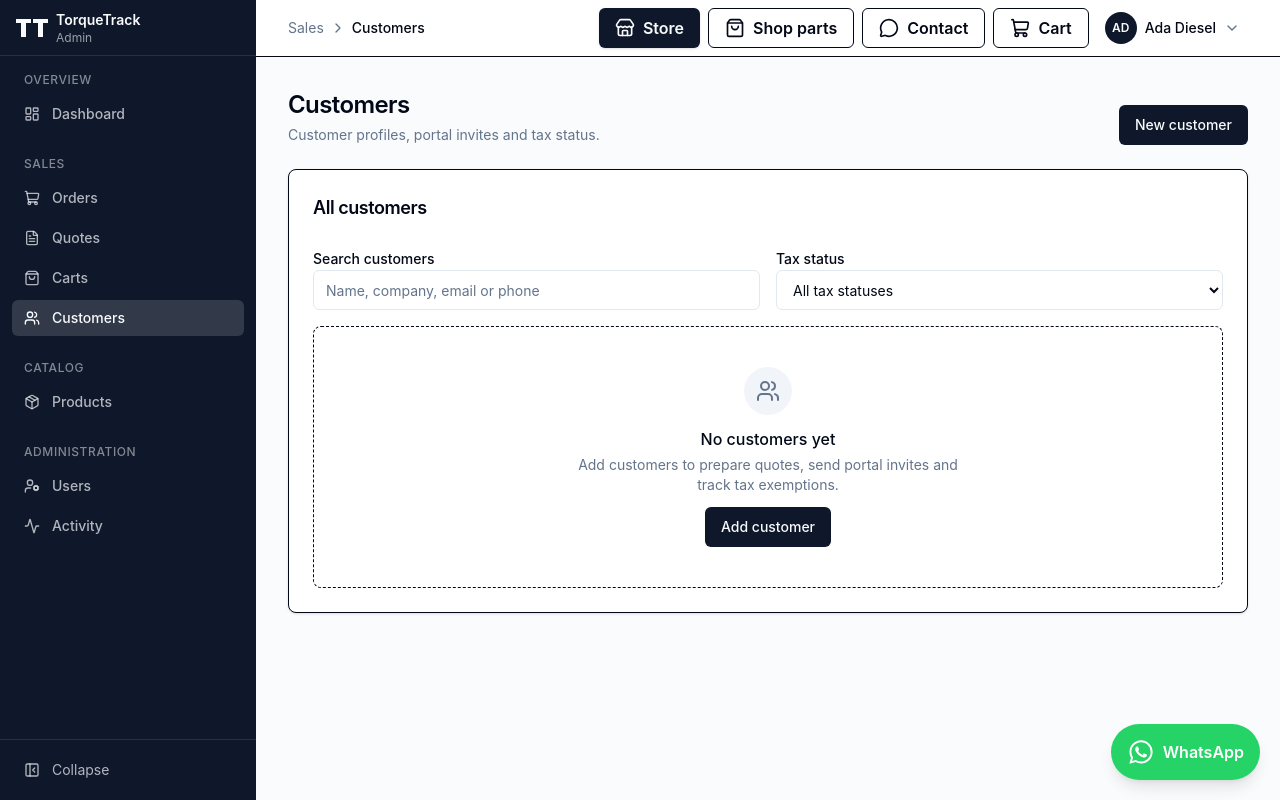
CustomersPage › creates a customer
Click the button "New customer" at (1183, 125), box left=1119, top=105, right=1248, bottom=145
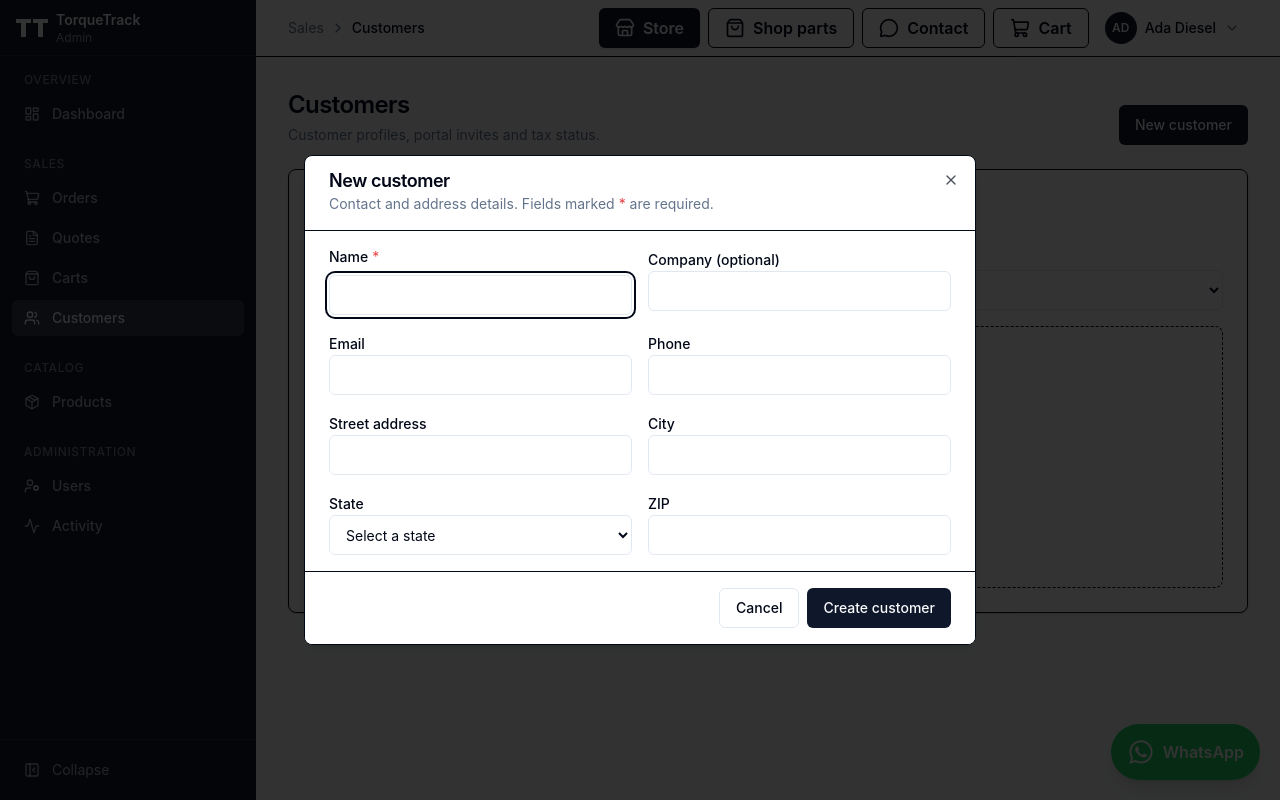
Type "Nia New" into the field labelled "Name" at (480, 295), box left=329, top=275, right=632, bottom=315
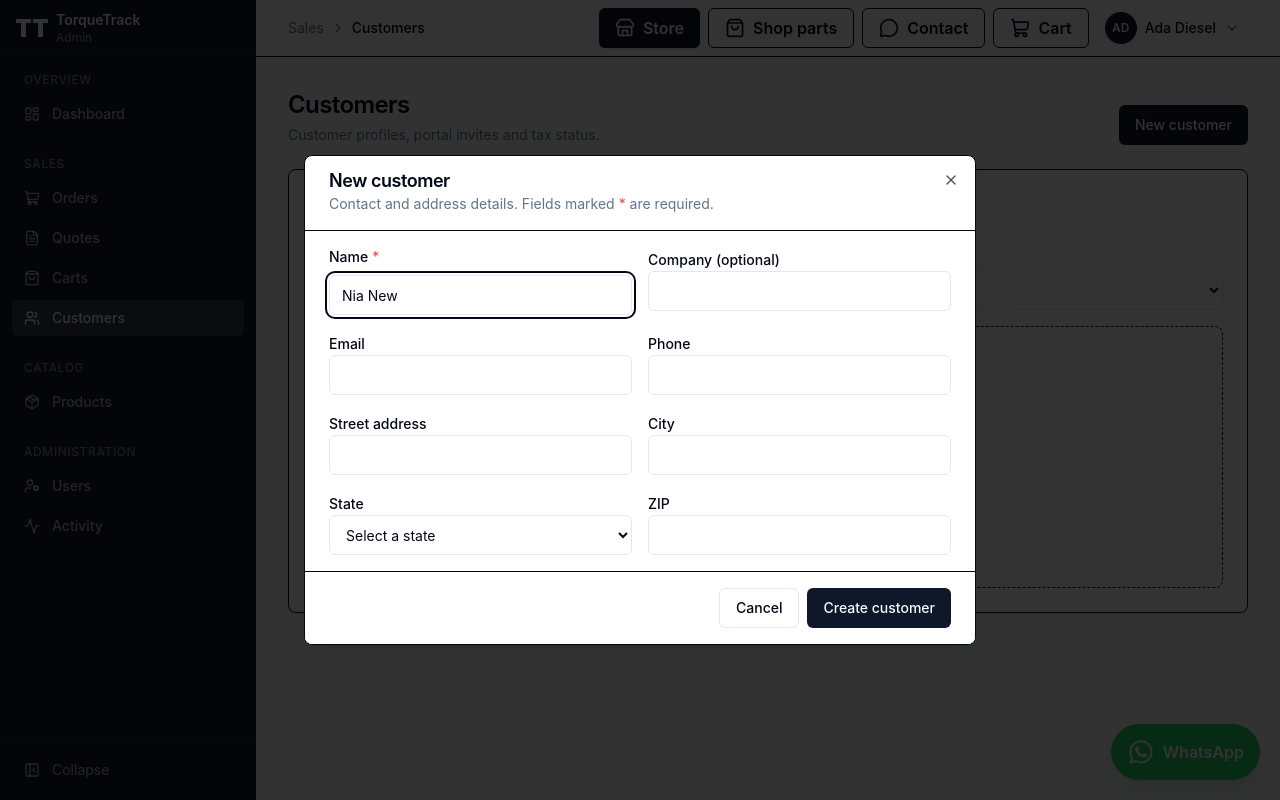
Type "New Fleet" into the field labelled "Company (optional)" at (800, 291), box left=648, top=271, right=951, bottom=311
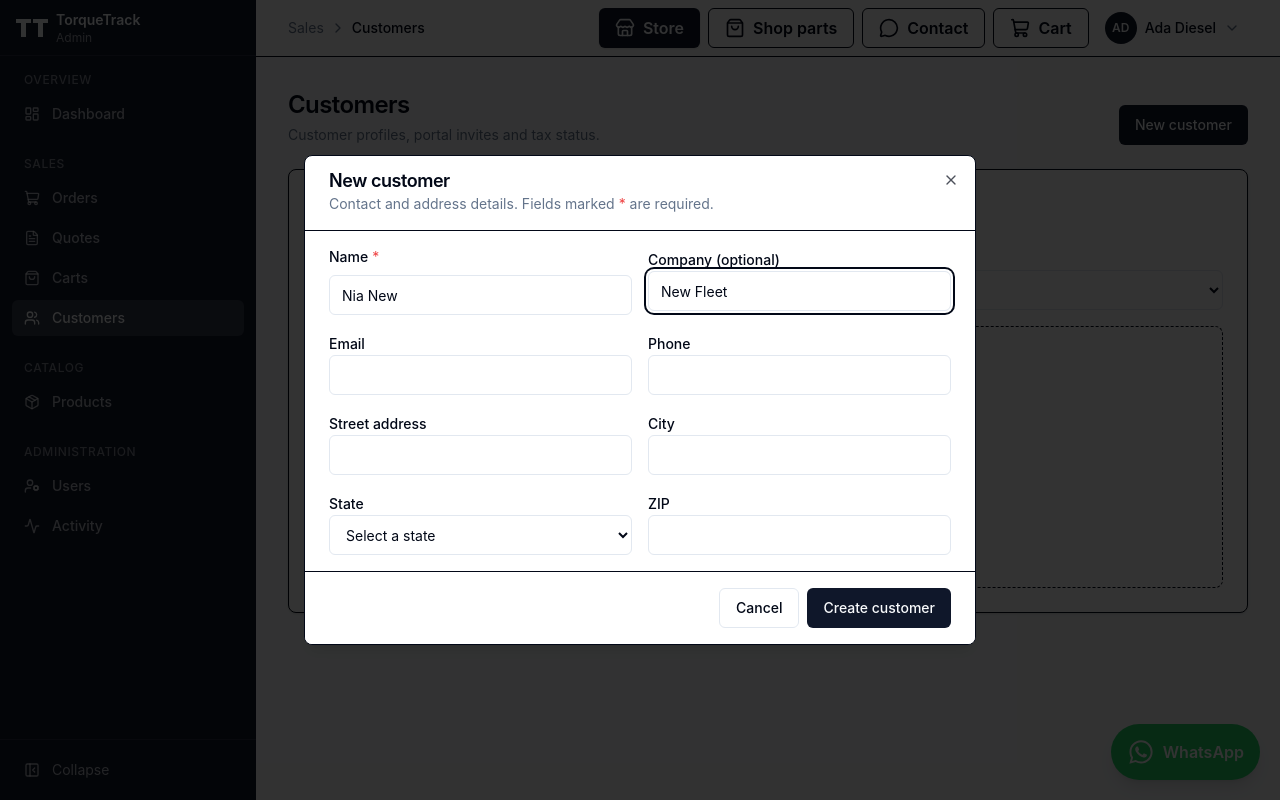
Type "nia@example.com" into the field labelled "Email" at (480, 375), box left=329, top=355, right=632, bottom=395
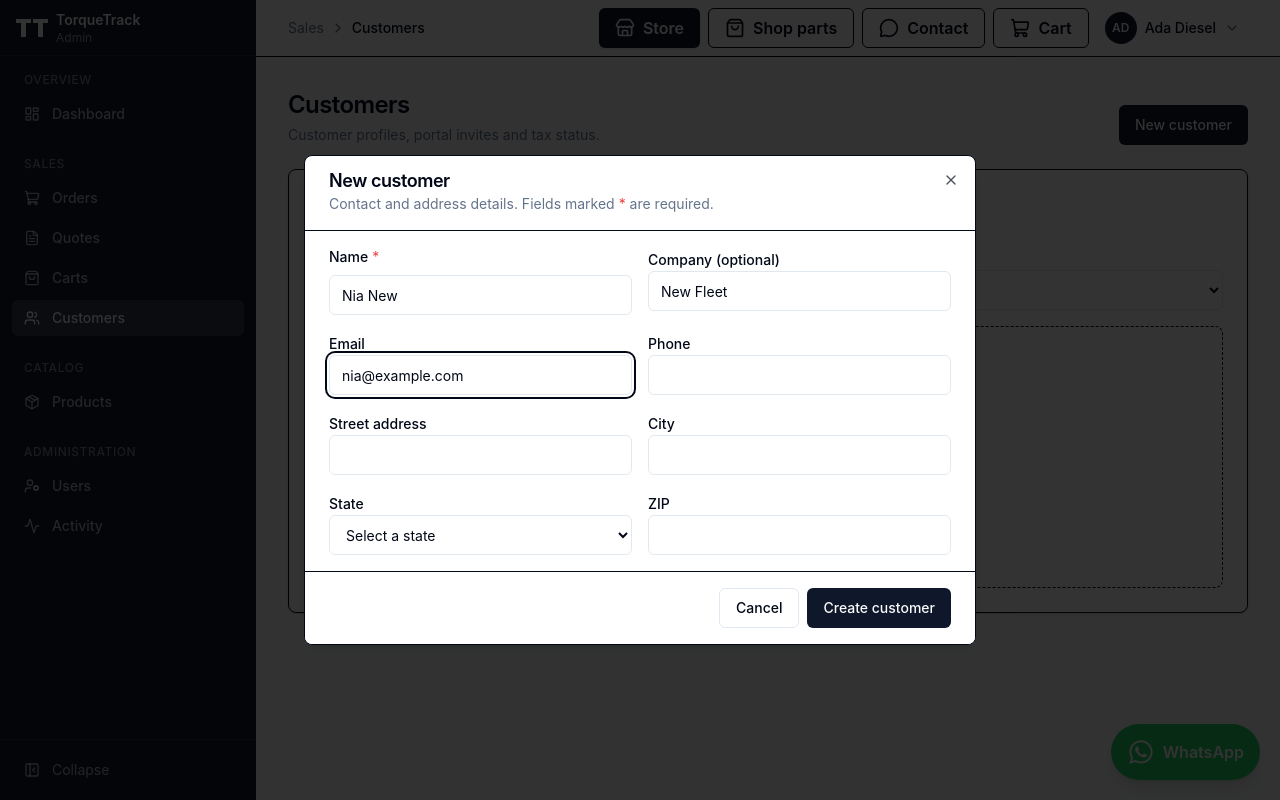
Click the button "Create customer" at (879, 608), box left=808, top=588, right=951, bottom=628
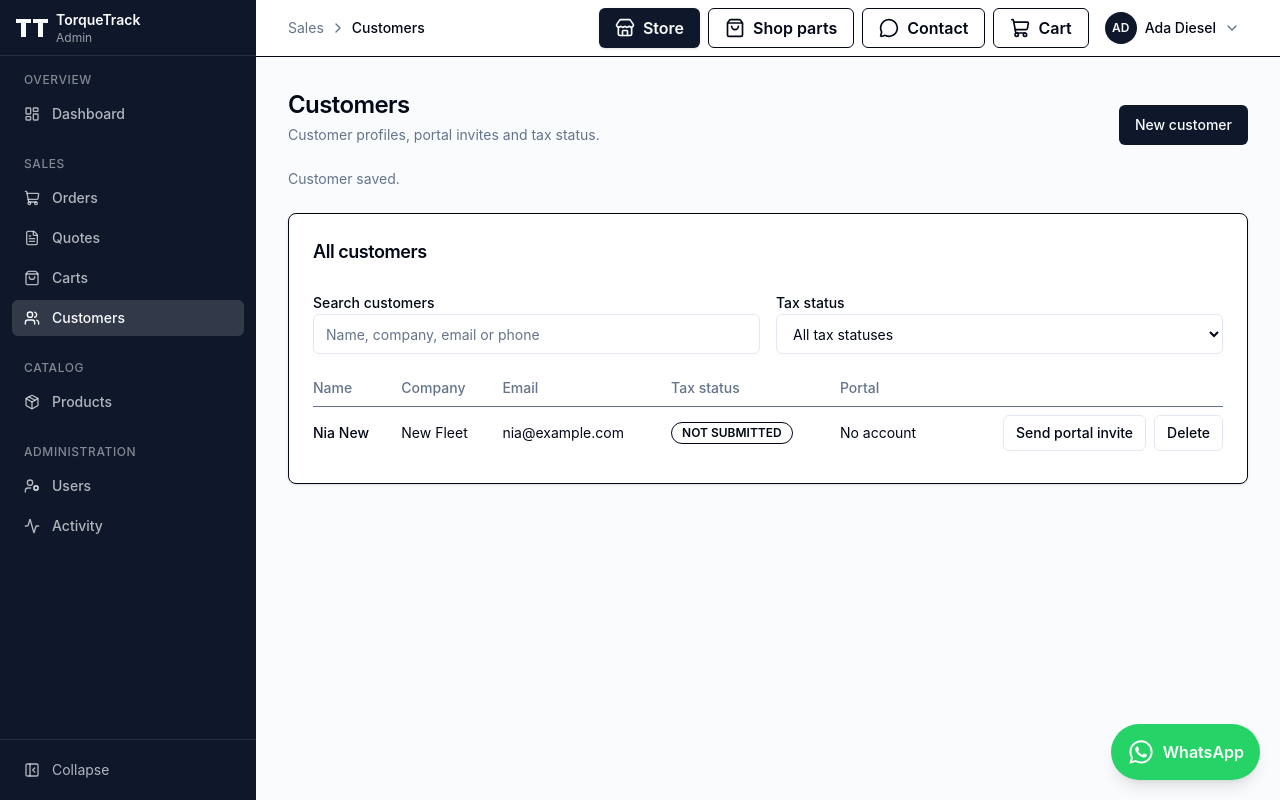
Expected: the text "nia@example.com" is shown, left=502, top=406, right=671, bottom=459
